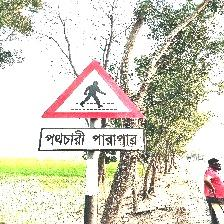Pedestrian-crossing: (39, 60, 145, 153)
